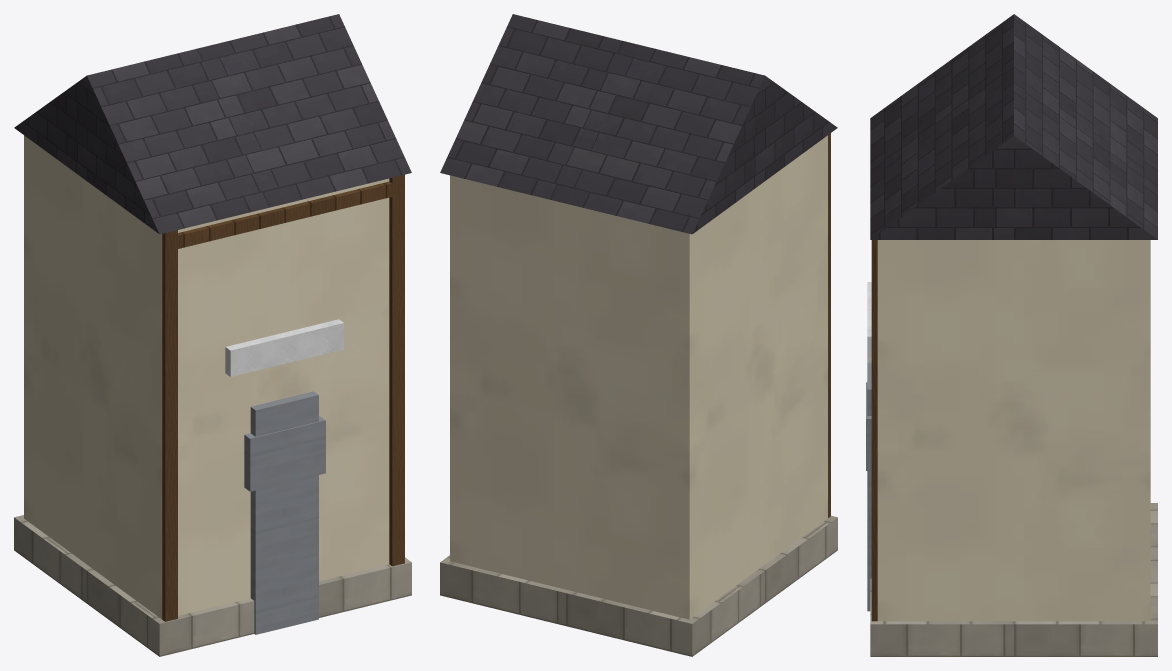
The model's file is category.lending.t3.glb.
3 views of the same model, side by side, from view 1: azimuth 30°, elevation 25°; view 2: azimuth 150°, elevation 25°; view 3: azimuth 270°, elevation 25° (orthographic).
Parts seen in each view (by area): view 1: building.category.lending.t3; view 2: building.category.lending.t3; view 3: building.category.lending.t3.
Part boxes in pixels (bbox=[...]): building.category.lending.t3: bbox=[14, 14, 411, 656]; building.category.lending.t3: bbox=[440, 14, 837, 656]; building.category.lending.t3: bbox=[866, 14, 1157, 656].
Size of the model in its own units: 2 by 4 by 2.03.
Materials: 6 (6 with a texture image).
